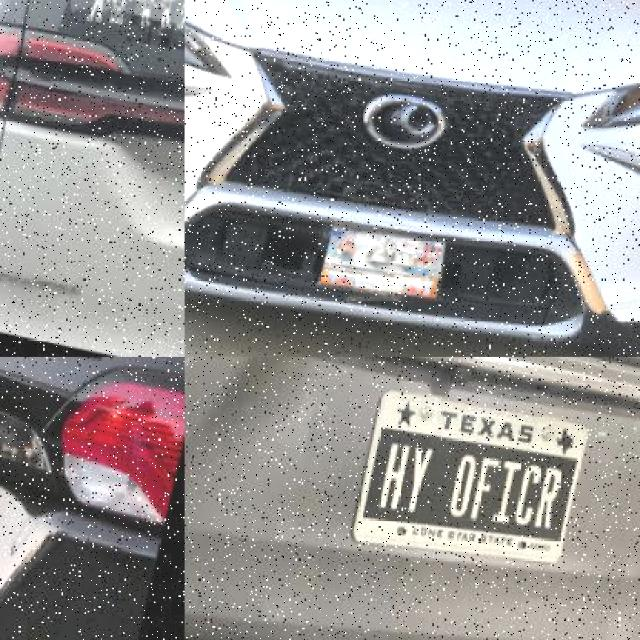licenseplate: (350, 390, 591, 566), (0, 442, 69, 606), (319, 227, 446, 301)
